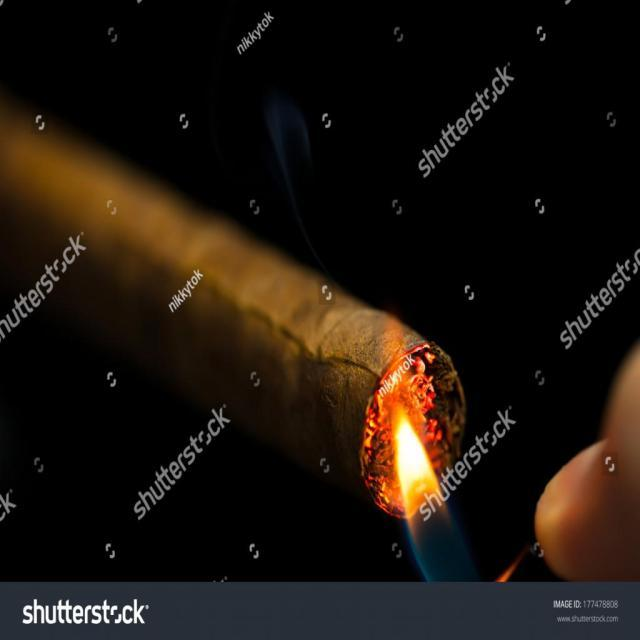smoking: (0, 0, 334, 401)
